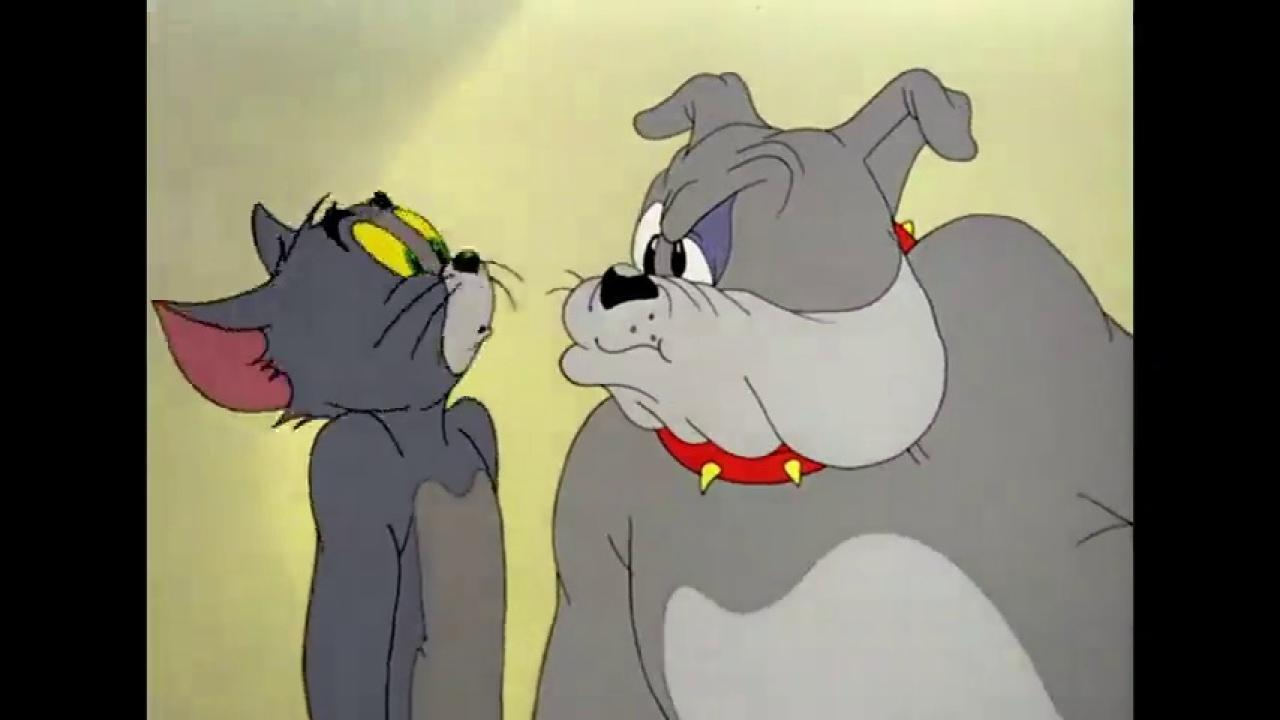Tom: (152, 190, 509, 720)
